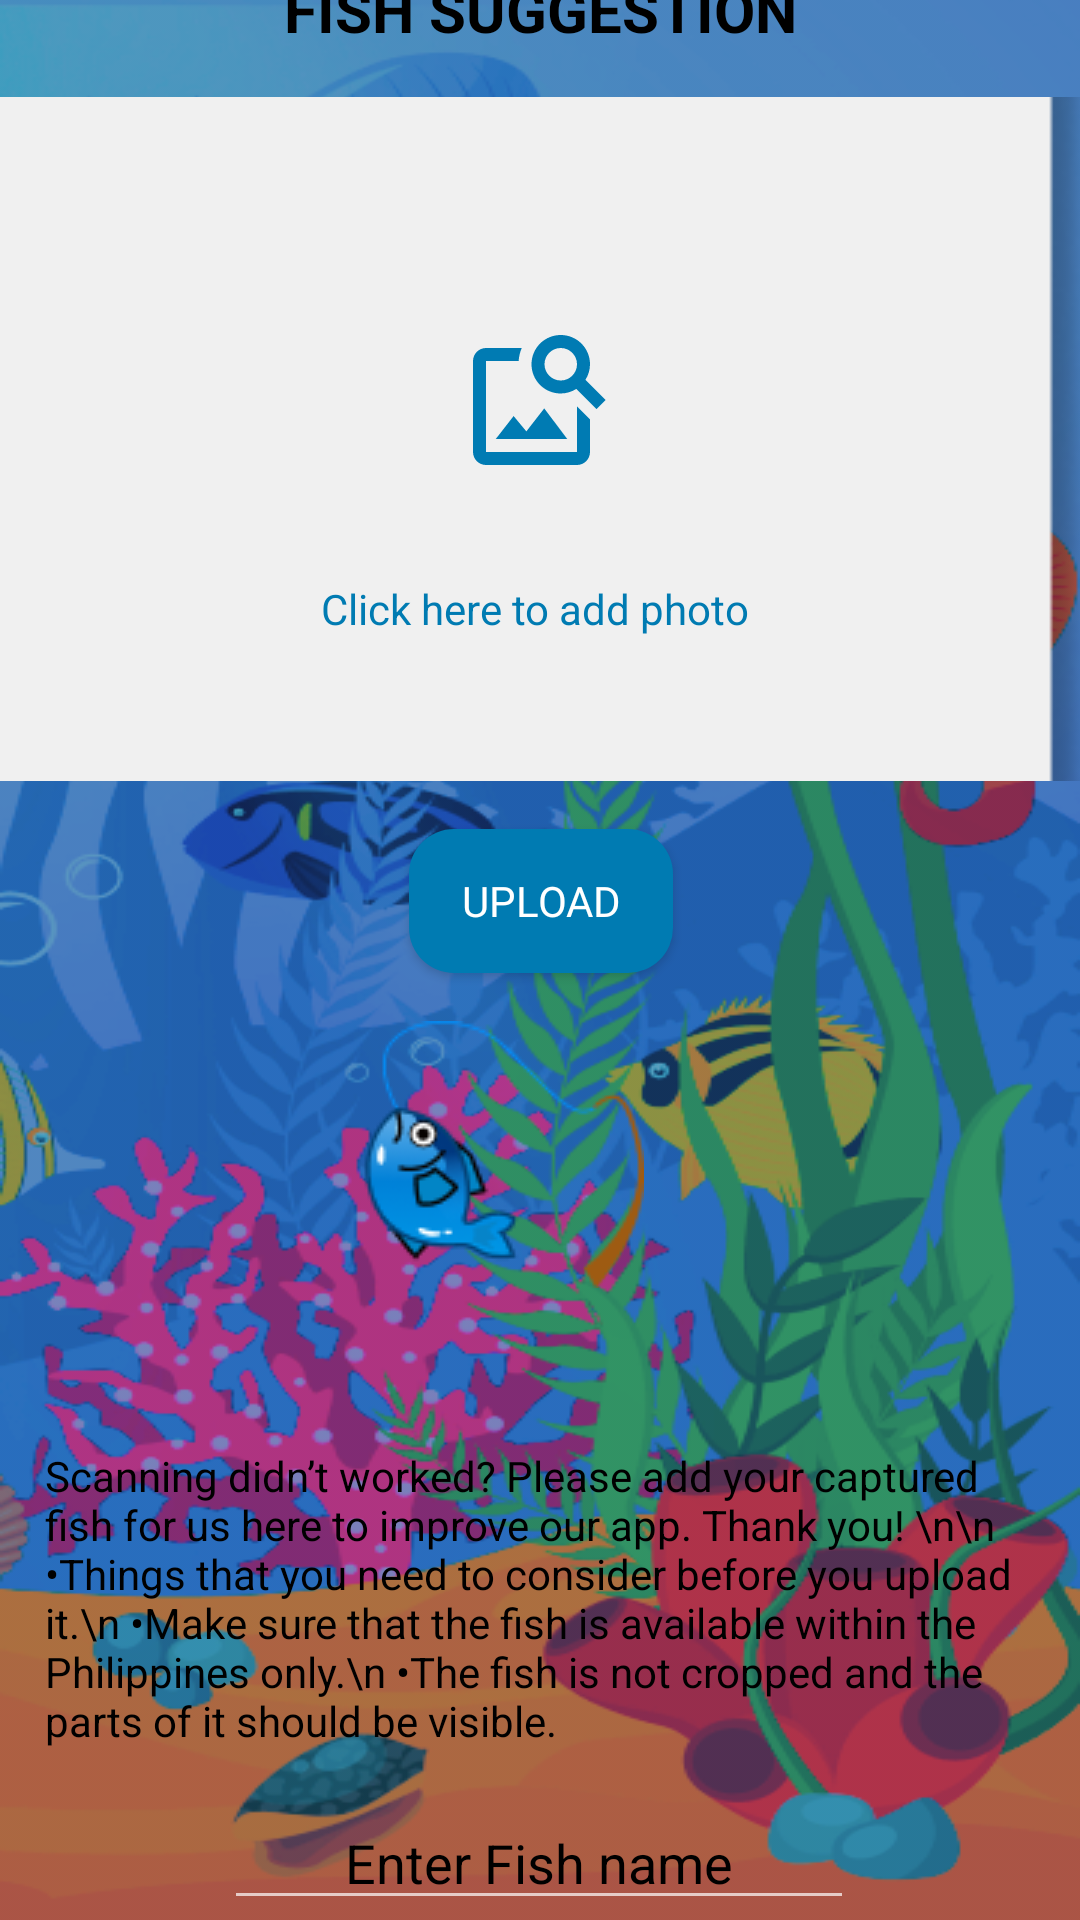

Icon click points for this 1080*1920 phone screenshot, format (x=x, y=y):
search: (x=539, y=400)
suggesfish: (x=500, y=1154)
